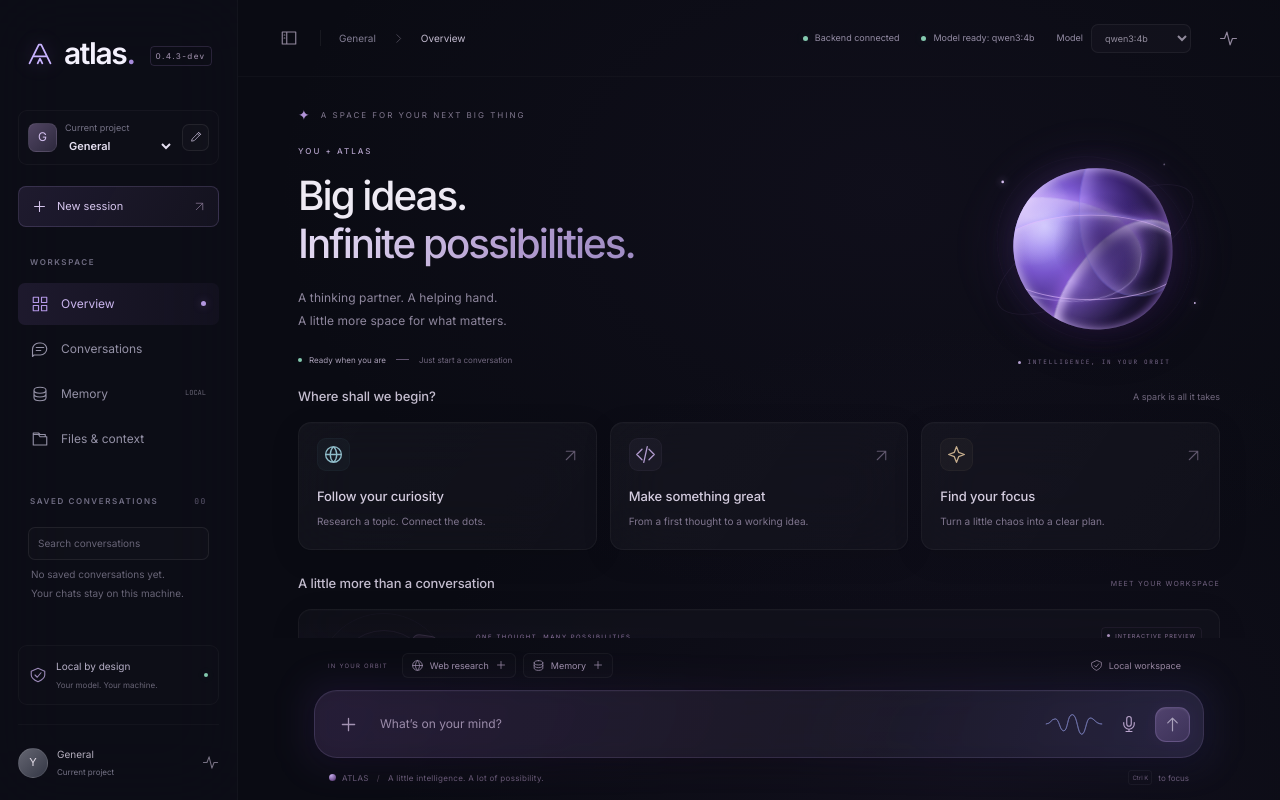
Test case: sends original text, typed preferences, and selected attachment
Expected: the text "Backend connected" is shown, [803,31,899,45]
Expected: the text "Model ready: qwen3:4b" is shown, [921,31,1034,45]
Click the button "Web research": x=459, y=665 [402,652,516,678]
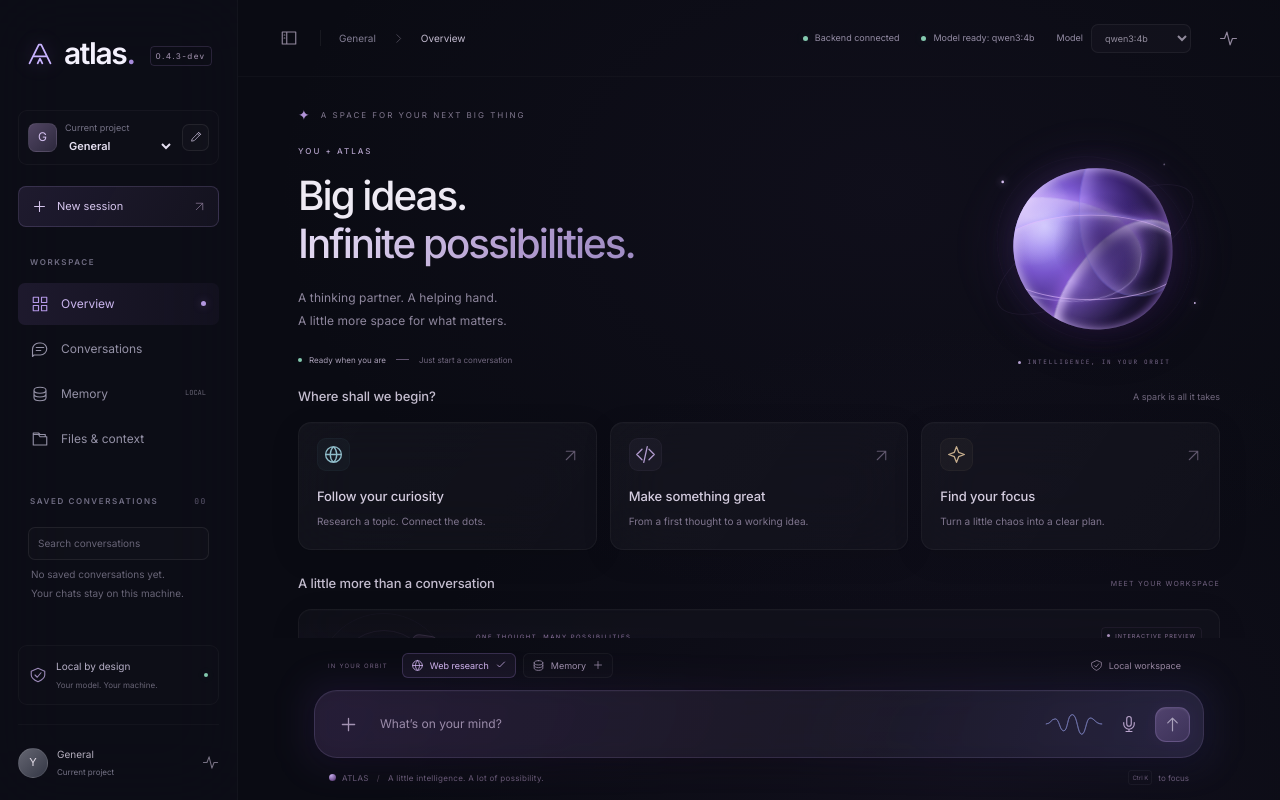
In the field named "Message Atlas": x=705, y=724 [380,715,1030,733], type "Plan my project"
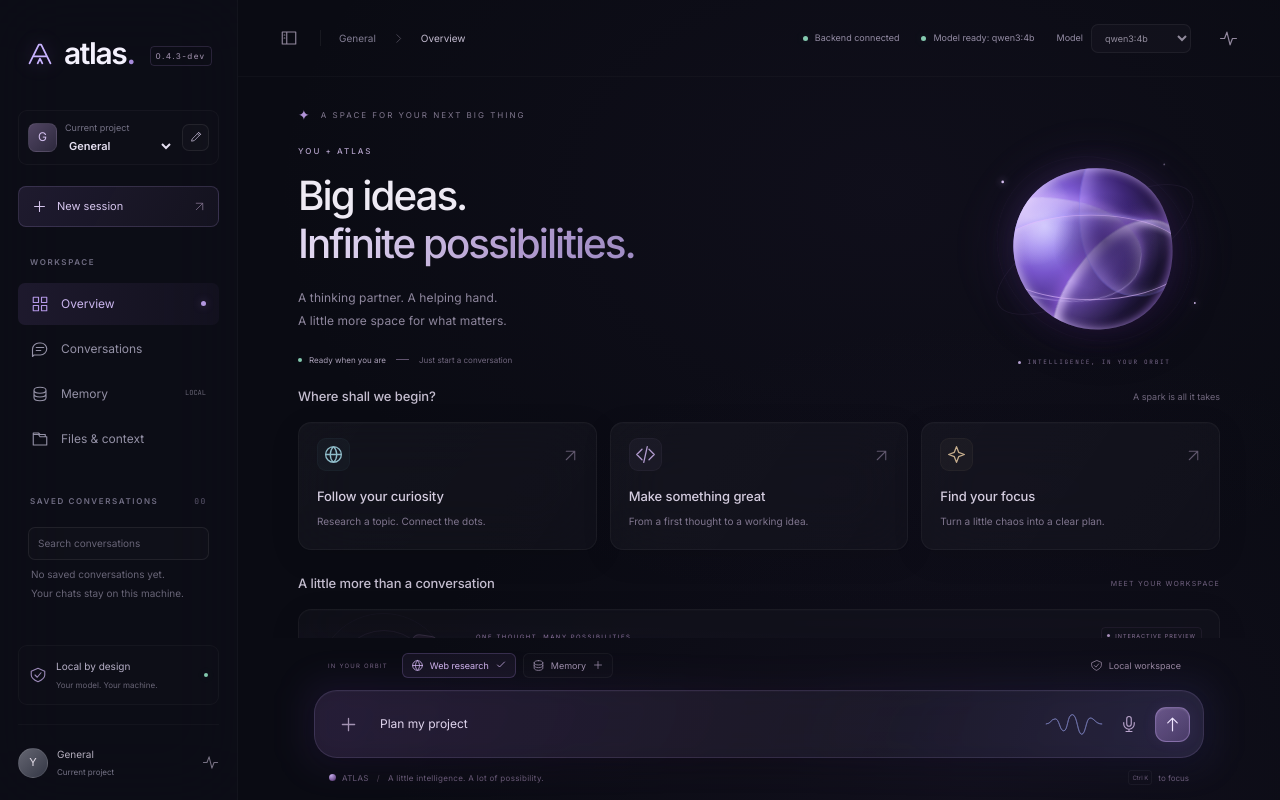
Click the button named "Send message": x=1172, y=724 [1155,706,1190,742]
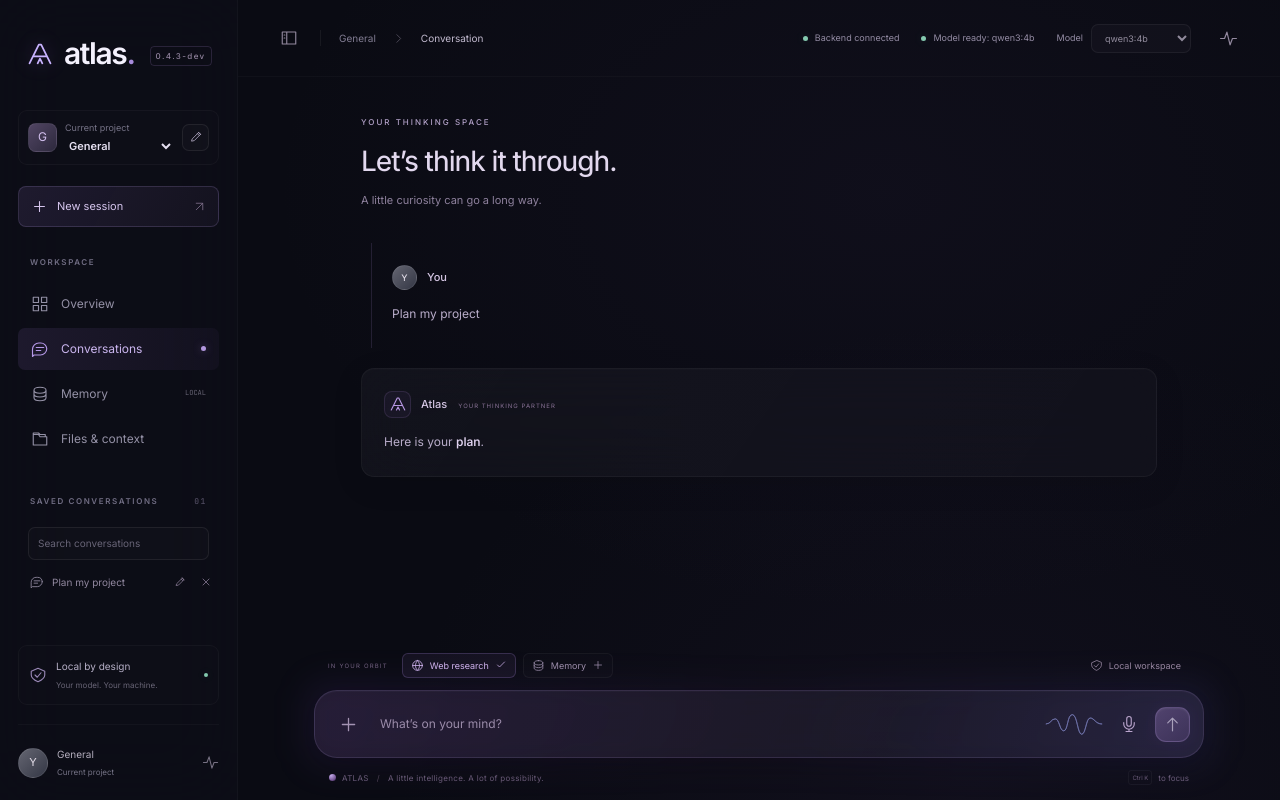
Expected: the text "plan" is shown, [456,434,481,449]
